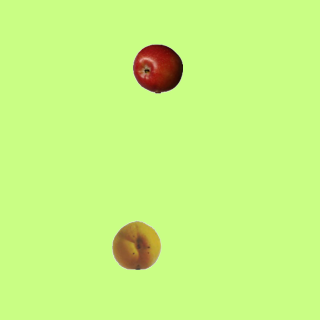Apple Braeburn: (132, 43, 182, 93)
Peach 2: (111, 219, 161, 269)
